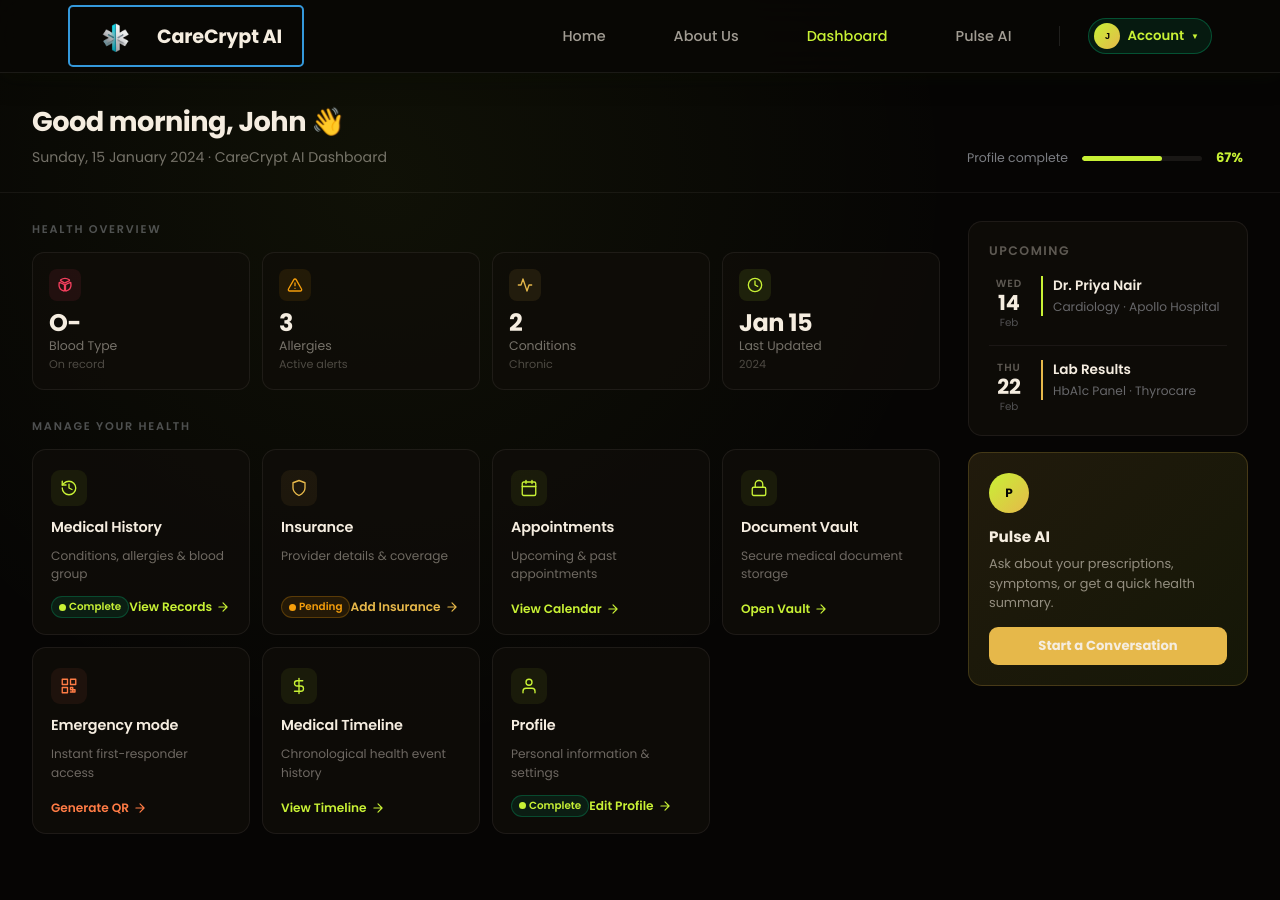
Test: Dashboard has a working Pulse AI promo that navigates to chat
Click the button "Start a Conversation" at (1108, 646), box x1=989 y1=627 x2=1227 y2=665
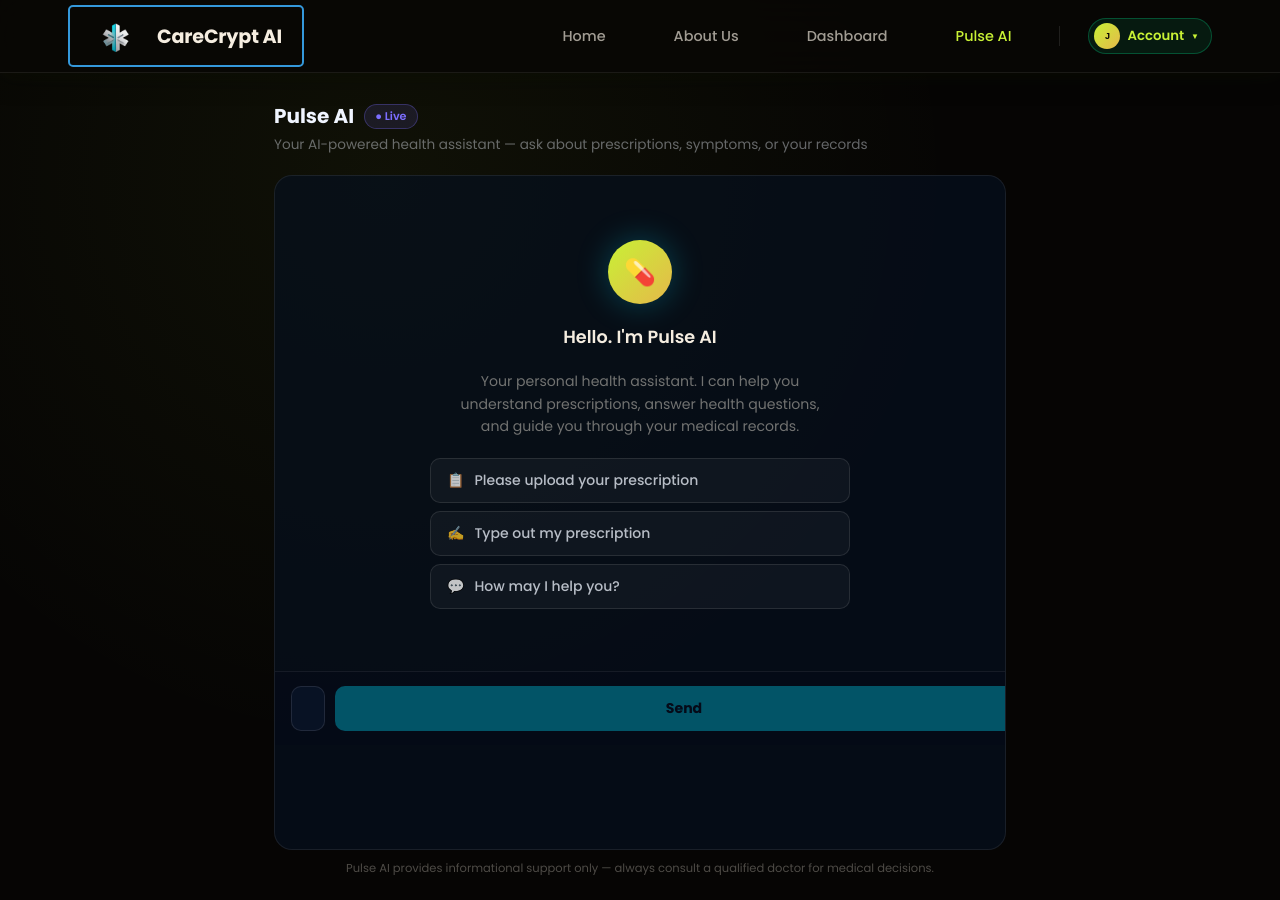
Expected: the text "● Live" is shown, x1=364 y1=104 x2=418 y2=128
Expected: the text "Hello. I'm Pulse AI" is shown, x1=563 y1=324 x2=717 y2=350
